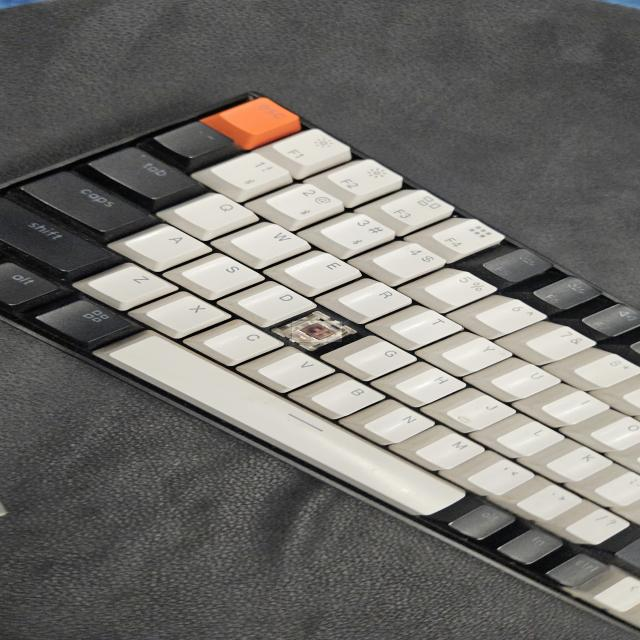C: (292, 321, 342, 342)
